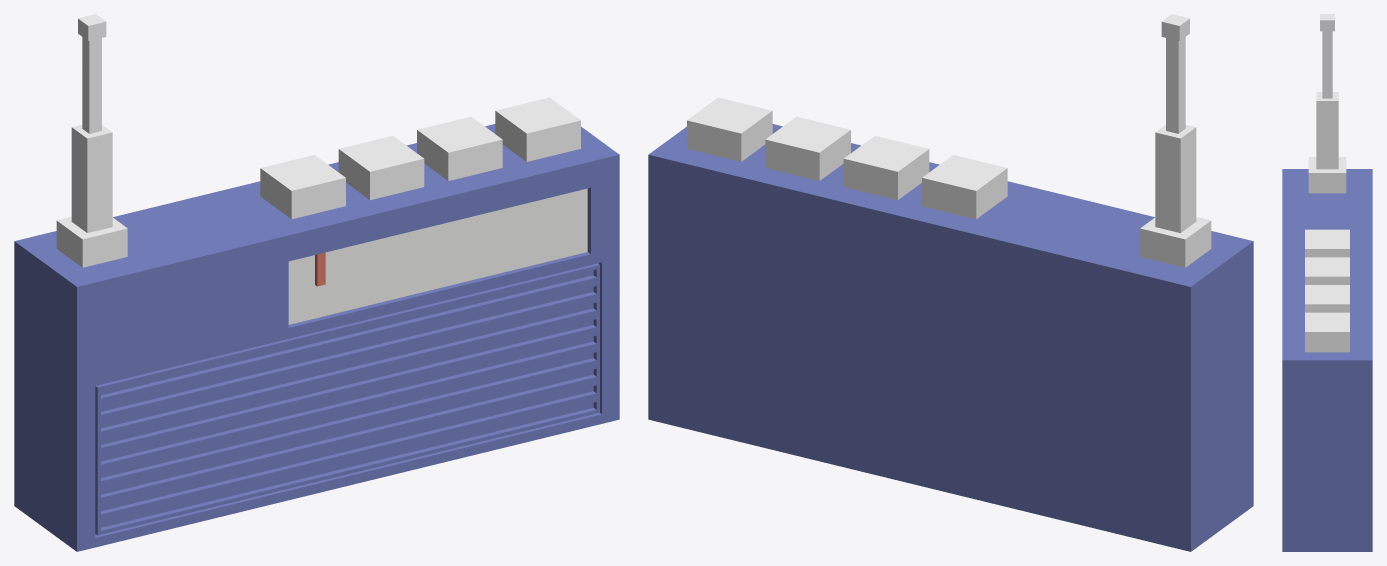
The model's file is radio.glb.
3 views of the same model, side by side, from view 1: azimuth 30°, elevation 25°; view 2: azimuth 150°, elevation 25°; view 3: azimuth 270°, elevation 25° (orthographic). The views are drawn at different scales.
Visible parts, largest first — view 1: Radio Body, Display, Attena, Button 01, Button 02, Button 03, Button 04; view 2: Radio Body, Attena, Button 01, Button 02, Button 03, Button 04; view 3: Radio Body, Attena, Button 04, Button 01, Button 02, Button 03.
Boxes of the visible parts, x1,y1,x2,y2 form: Radio Body: (14,124,619,551); Display: (288,188,587,324); Attena: (56,14,127,267); Button 01: (260,155,345,219); Button 02: (338,136,424,200); Button 03: (417,116,502,180); Button 04: (495,97,580,161); Radio Body: (648,124,1253,551); Attena: (1140,14,1211,267); Button 01: (922,155,1007,219); Button 02: (843,136,929,200); Button 03: (765,116,850,180); Button 04: (687,97,772,161); Radio Body: (1282,169,1372,551); Attena: (1308,14,1346,193); Button 04: (1305,312,1349,352); Button 01: (1305,229,1349,257); Button 02: (1305,257,1349,284); Button 03: (1305,285,1349,312).
Bounding box in the file's own units: 0.381 × 0.334 × 0.0762.
